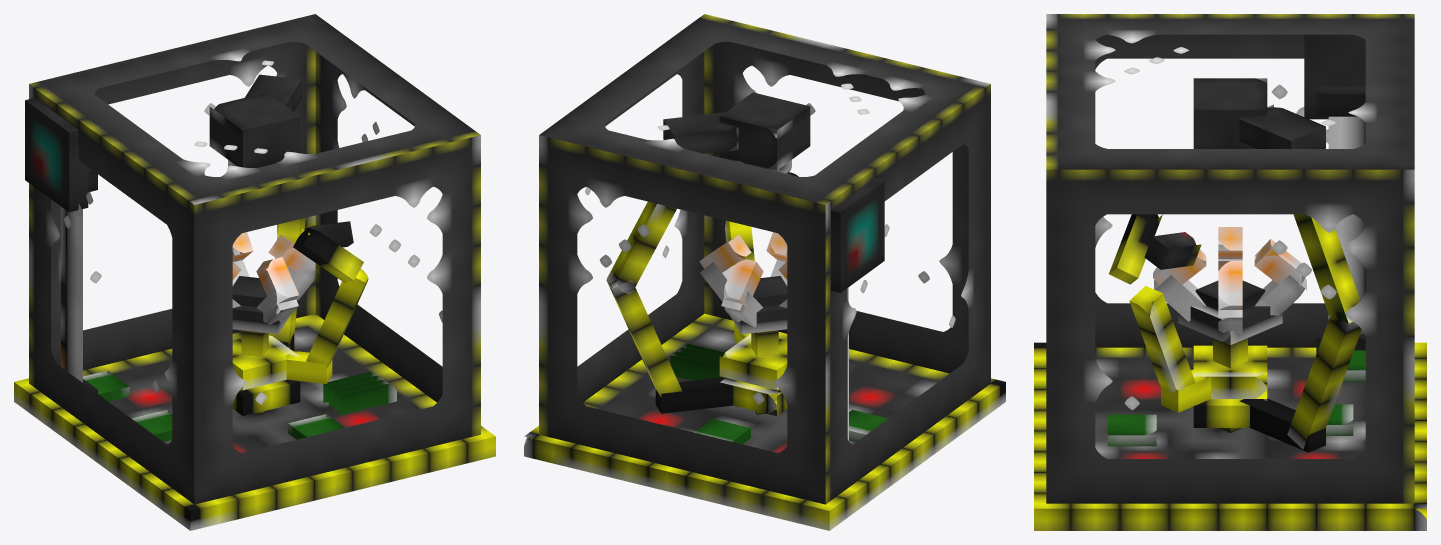
File: quantum_assembler.obj
3 views of the same model, side by side, from view 1: azimuth 30°, elevation 25°; view 2: azimuth 150°, elevation 25°; view 3: azimuth 270°, elevation 25° (orthographic). The views are drawn at different scales.
Visible parts, largest first — view 1: SafetyGlassLeft, PlinthBasePlate, SafetyGlassTop, SafetyGlassFront, SafetyGlassRight, SafetyGlassBack, ResonatorAssembly, ControlPad, ControlPadRibbonCable, MiddleRotorLowerArm, MiddleRotor, MiddleRotorUpperArm (+15 smaller); view 2: SafetyGlassRight, PlinthBasePlate, SafetyGlassTop, SafetyGlassFront, SafetyGlassLeft, SafetyGlassBack, ResonatorAssembly, ControlPad, BottomRotorLowerArm, BottomRotorUpperArm, MiddleRotor, BottomRotorResonatorArm (+13 smaller); view 3: SafetyGlassBack, PlinthBasePlate, SafetyGlassTop, SafetyGlassFront, ResonatorAssembly, BottomRotorLowerArm, ControlPad, MiddleRotorLowerArm, BottomRotorUpperArm, MiddleRotor, BottomRotorResonatorArm, ControlPadRibbonCable (+19 smaller).
Boxes of the visible parts, left/top/right/bottom form: SafetyGlassLeft: left=194, top=135, right=480, bottom=504; PlinthBasePlate: left=14, top=313, right=495, bottom=530; SafetyGlassTop: left=29, top=14, right=480, bottom=204; SafetyGlassFront: left=29, top=84, right=194, bottom=503; SafetyGlassRight: left=51, top=41, right=315, bottom=370; SafetyGlassBack: left=315, top=52, right=442, bottom=402; ResonatorAssembly: left=209, top=92, right=300, bottom=167; ControlPad: left=25, top=98, right=88, bottom=212; ControlPadRibbonCable: left=61, top=206, right=82, bottom=382; MiddleRotorLowerArm: left=306, top=269, right=368, bottom=367; MiddleRotor: left=232, top=335, right=299, bottom=390; MiddleRotorUpperArm: left=293, top=228, right=363, bottom=282; SafetyGlassRight: left=539, top=135, right=825, bottom=504; PlinthBasePlate: left=524, top=313, right=1005, bottom=530; SafetyGlassTop: left=539, top=14, right=990, bottom=204; SafetyGlassFront: left=825, top=84, right=990, bottom=503; SafetyGlassLeft: left=704, top=41, right=968, bottom=373; SafetyGlassBack: left=577, top=52, right=704, bottom=402; ResonatorAssembly: left=719, top=92, right=810, bottom=170; ControlPad: left=831, top=178, right=884, bottom=292; BottomRotorLowerArm: left=606, top=279, right=681, bottom=397; BottomRotorUpperArm: left=606, top=153, right=705, bottom=294; MiddleRotor: left=719, top=334, right=787, bottom=390; BottomRotorResonatorArm: left=663, top=112, right=738, bottom=153; SafetyGlassBack: left=1046, top=169, right=1414, bottom=503; PlinthBasePlate: left=1034, top=342, right=1426, bottom=530; SafetyGlassTop: left=1046, top=14, right=1414, bottom=169; SafetyGlassFront: left=1095, top=34, right=1328, bottom=347; ResonatorAssembly: left=1193, top=78, right=1267, bottom=148; BottomRotorLowerArm: left=1287, top=317, right=1361, bottom=449; ControlPad: left=1304, top=34, right=1365, bottom=119; MiddleRotorLowerArm: left=1129, top=286, right=1195, bottom=392; BottomRotorUpperArm: left=1293, top=214, right=1360, bottom=323; MiddleRotor: left=1193, top=345, right=1267, bottom=398; BottomRotorResonatorArm: left=1239, top=104, right=1325, bottom=148; ControlPadRibbonCable: left=1328, top=116, right=1365, bottom=333.
Bounding box in the file's own units: 1 × 1 × 1.
